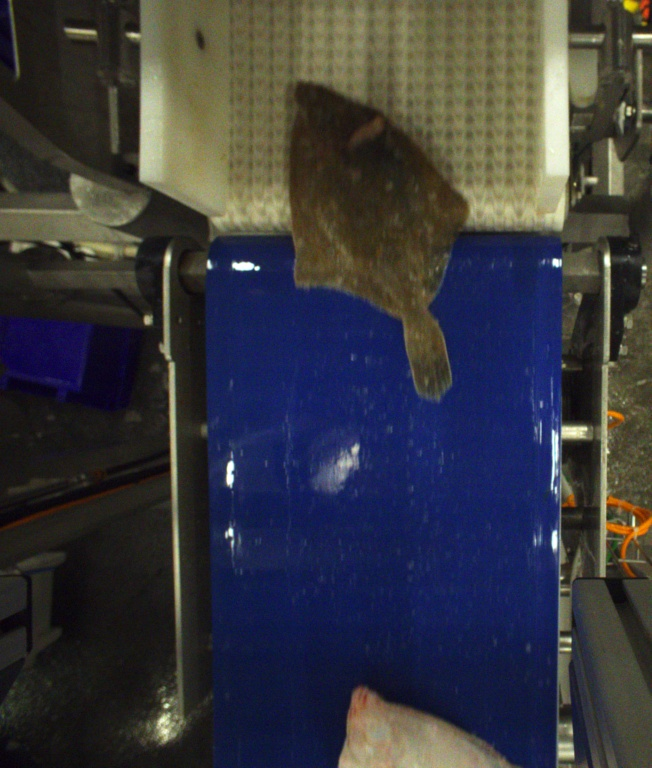PLE: (287, 83, 471, 398)
